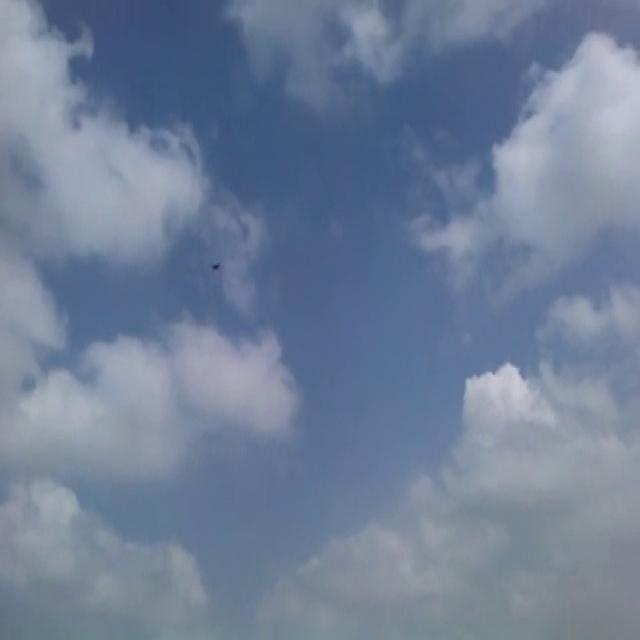drone: (207, 255, 222, 278)
